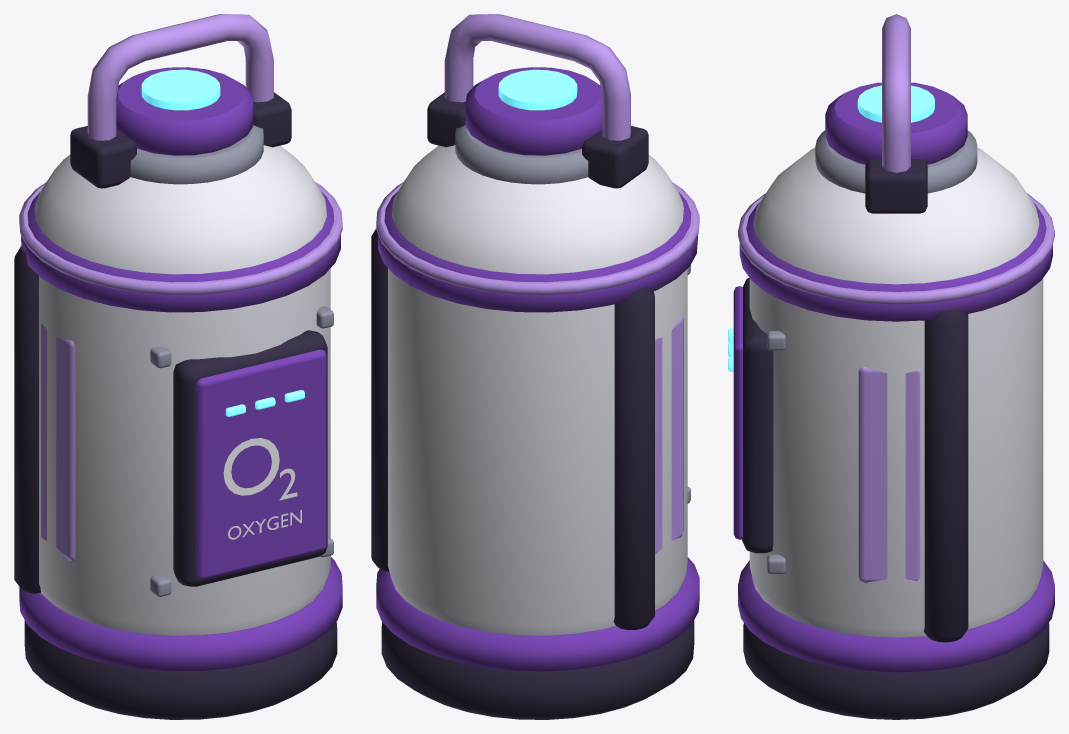
Rendered from OxygenTank_Pickup.fbx.
3 renders of one model, left to right at view 1: azimuth 30°, elevation 25°; view 2: azimuth 150°, elevation 25°; view 3: azimuth 270°, elevation 25°, orthographic. The views are drawn at different scales.
Parts seen in each view (by area): view 1: OxygenTank_Pickup; view 2: OxygenTank_Pickup; view 3: OxygenTank_Pickup.
Part boxes in pixels (x1,y1,x2,y2): OxygenTank_Pickup: (14,14,342,719); OxygenTank_Pickup: (371,14,699,719); OxygenTank_Pickup: (728,14,1054,719).
Bounding box in the file's own units: 0.352 × 0.7709 × 0.363.
